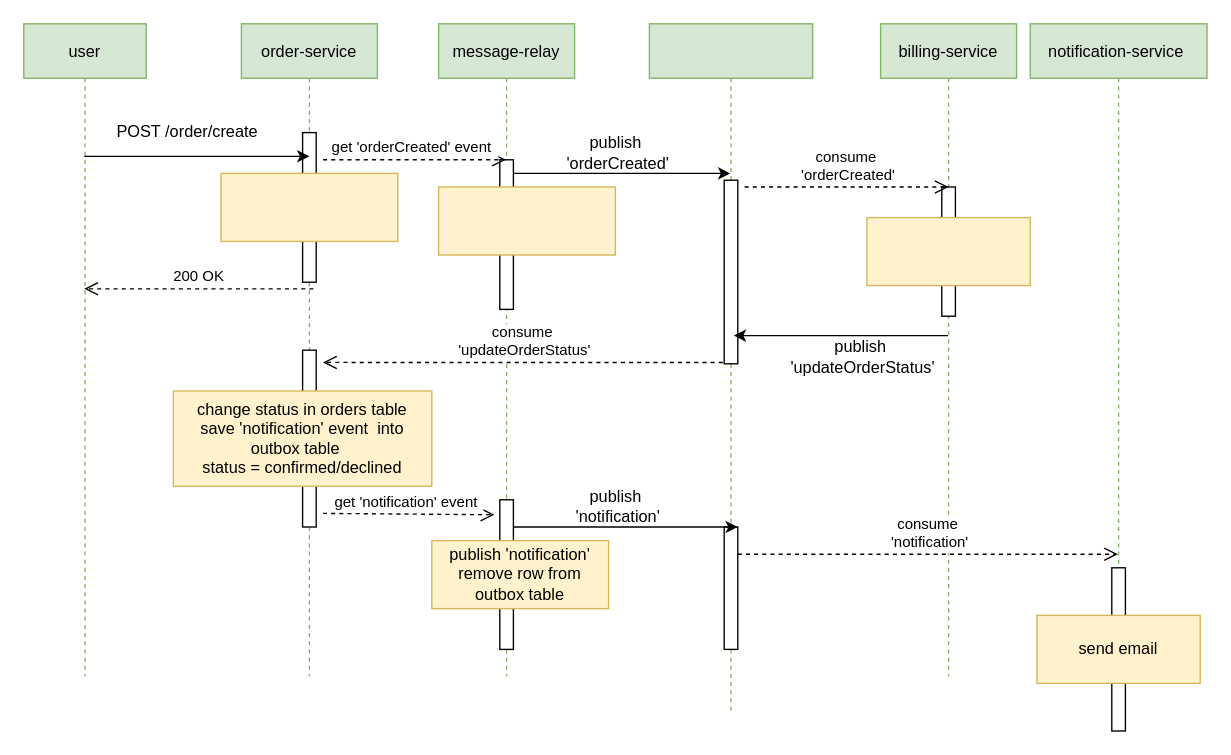
This 1231x755 diagram has some shape labels left out. The shapes that lost their labels are listed below. From the top down, each one's centre as x and y in pixels, then its label:
the point at 309,206: save into orders table save into outbox table status = not confirmed
the point at 526,220: publish 'orderCreated' remove row from outbox table
the point at 948,251: logic with balance publish 'updateOrderStatus'
the point at 730,366: message broker
